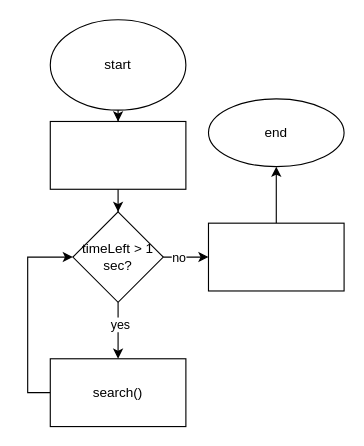
Some shapes in this 364 by 446 pixel diagram are drawn without their labels. The centre of each missing label's shape, as x and y in pixels:
call getActionProb(): the point at 117,154
get action with highest QVal: the point at 275,256
